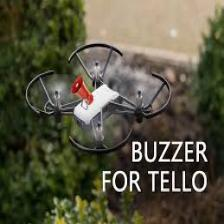drone: (28, 42, 169, 149)
